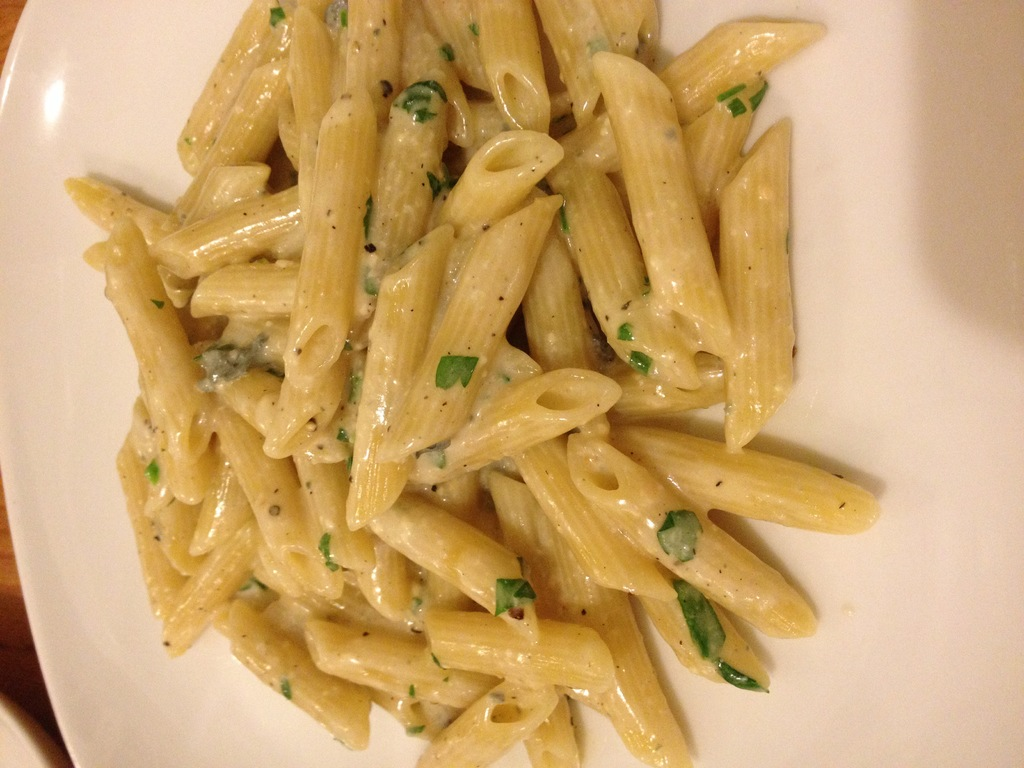pasta: (58, 0, 884, 767)
